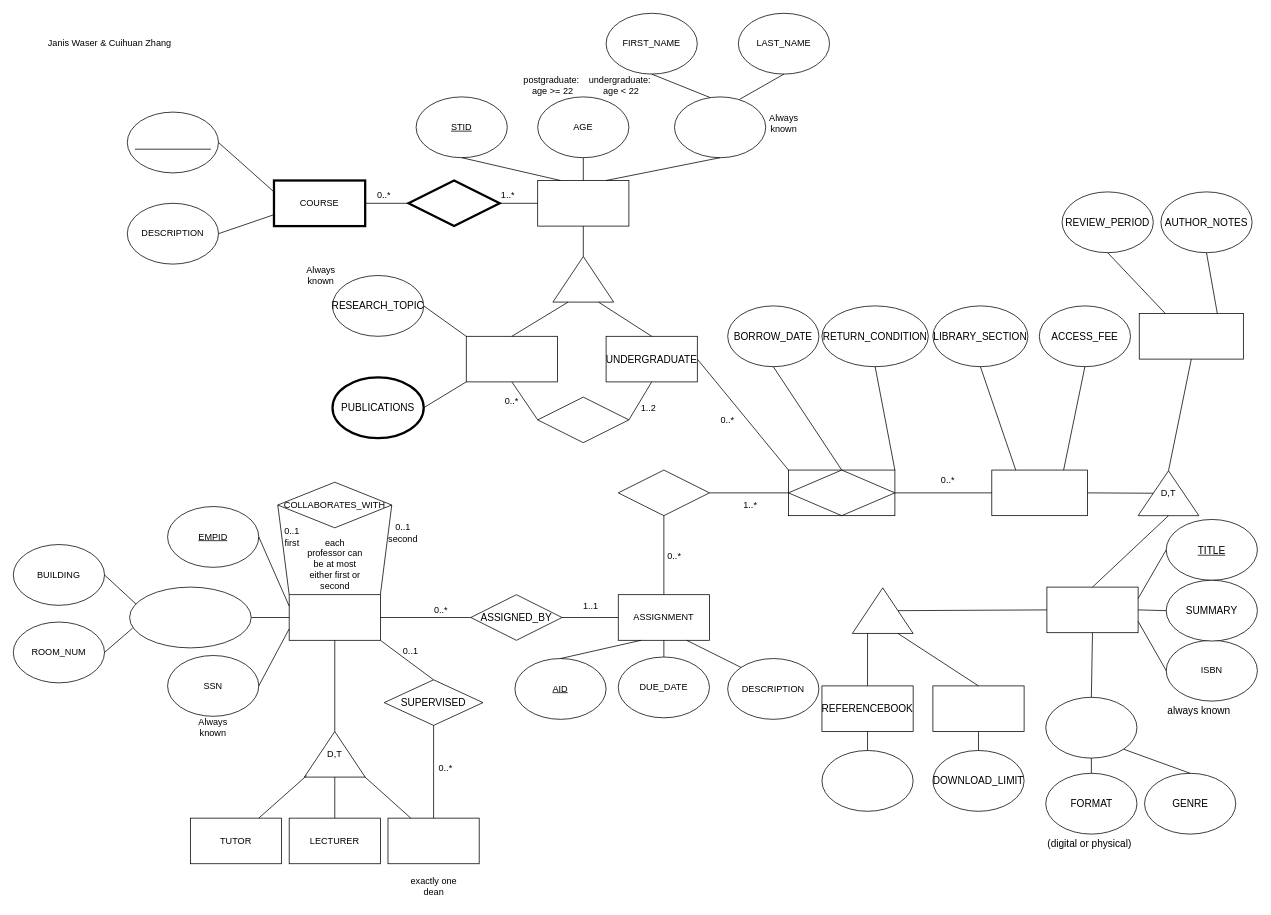
Some shapes in this 1271 by 915 pixel diagram are drawn without their labels. Here are the shapes that lost their labels. From the top down, the box of each, then its label:
(127, 111, 218, 173): COURSE_CODE
(674, 96, 766, 158): FULL_NAME
(407, 179, 500, 227): TAKES
(537, 180, 629, 226): STUDENT
(552, 256, 614, 302): D, T
(1138, 313, 1243, 359): UNPUBLISHED_RSRC
(466, 336, 557, 382): POSTGRADUATE
(537, 396, 629, 443): MENTORED_BY
(618, 469, 709, 516): NEEDS
(788, 469, 895, 516): BORROWS
(991, 469, 1088, 516): RESTRICTED_RSRC
(129, 586, 251, 648): DEPARTMENT_LOCATION
(288, 594, 380, 640): PROFESSOR
(852, 587, 913, 633): O,T
(1046, 586, 1138, 633): TEXTBOOK
(932, 685, 1024, 732): EBOOK
(1045, 697, 1137, 758): CONTENT
(821, 750, 913, 811): SUBJECT
(387, 817, 479, 864): DEAN
